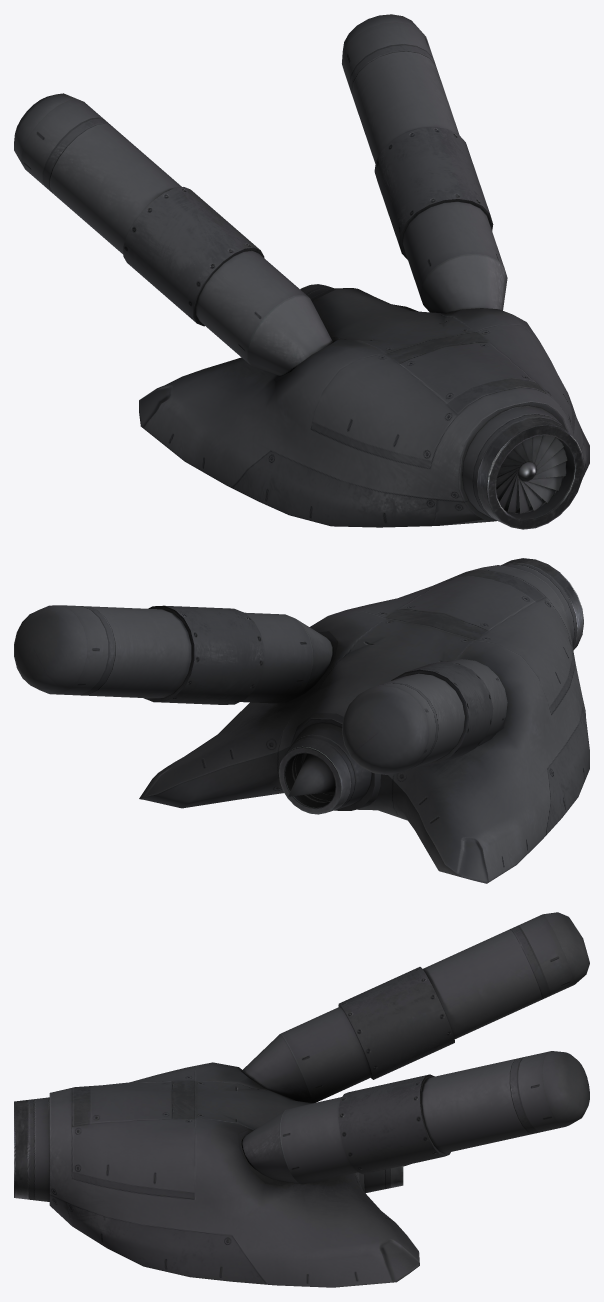
File: option_booster.fbx
3 views of the same model, one above another, from view 1: azimuth 30°, elevation 25°; view 2: azimuth 150°, elevation 25°; view 3: azimuth 270°, elevation 25° (orthographic). The views are drawn at different scales.
Visible parts, largest first — view 1: OP-B_low_000, OP-B_low_008, OP-B_low_007, OP-B_low_005, OP-B_low_001; view 2: OP-B_low_000, OP-B_low_008, OP-B_low_007, OP-B_low_003, OP-B_low_005, OP-B_low_004; view 3: OP-B_low_000, OP-B_low_008, OP-B_low_007, OP-B_low_005, OP-B_low_003.
Part boxes in pixels (x1,y1,x2,y2): OP-B_low_000: (139,288,589,527); OP-B_low_008: (14,14,507,375); OP-B_low_007: (123,127,493,326); OP-B_low_005: (462,405,583,529); OP-B_low_001: (496,435,567,513); OP-B_low_000: (139,565,589,883); OP-B_low_008: (14,605,507,774); OP-B_low_007: (143,605,493,766); OP-B_low_003: (278,723,371,814); OP-B_low_005: (501,558,583,650); OP-B_low_004: (288,754,335,796); OP-B_low_000: (49,1062,419,1287); OP-B_low_008: (241,912,589,1184); OP-B_low_007: (338,967,454,1174); OP-B_low_005: (14,1097,49,1201); OP-B_low_003: (364,1166,403,1193).
Bounding box in the file's own units: 148 × 94.97 × 210.
1 material, 1 textured.
